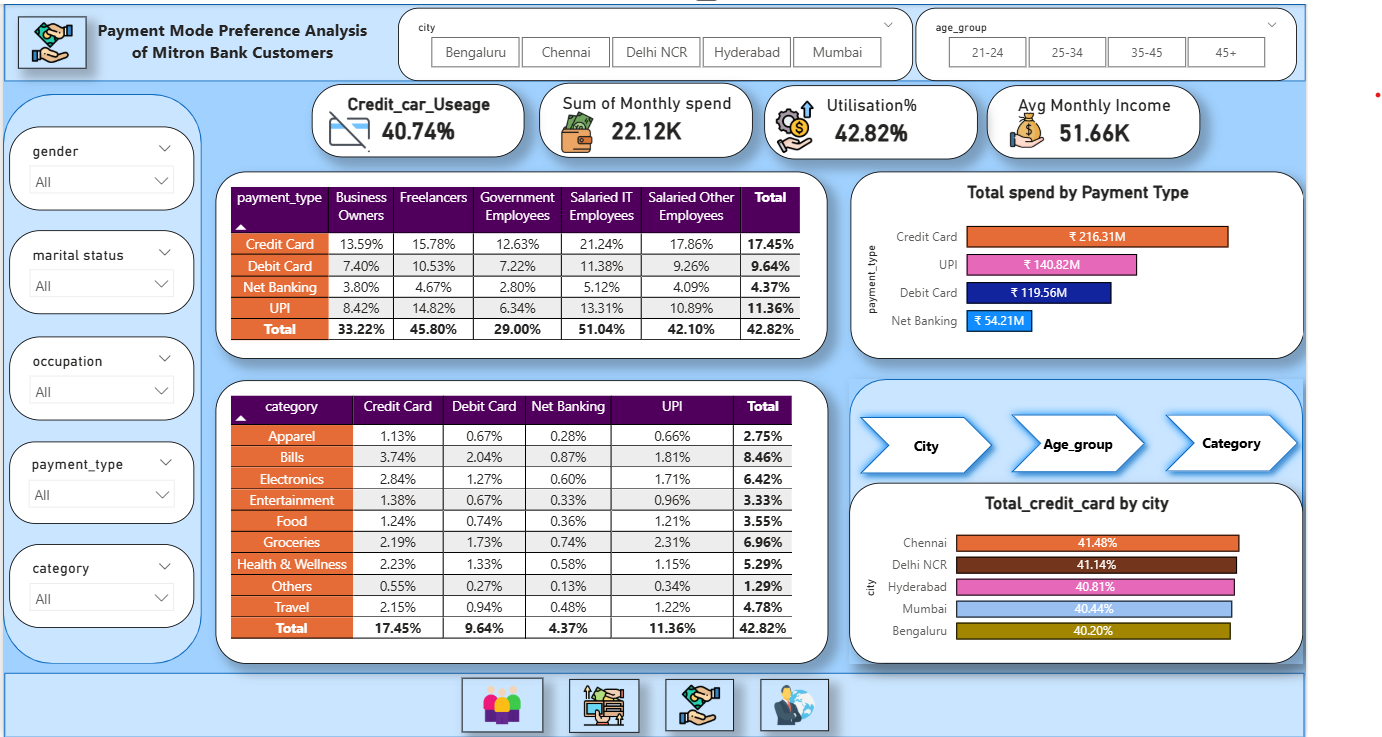

The dashboard page shown, as its layout file describes it:
{"tool":"powerbi","page":{"name":"Payment Mode","canvas":[1280,720],"ordinal":3},"visuals":[{"type":"shape","box":[1.2,0,1278.5,76.1],"z":0,"group":"g3"},{"type":"image","box":[14.7,12.3,67.5,51.5],"z":0,"group":"g4"},{"type":"card","title":"Credit_car_Useage","fields":{"Values":["fact_spends.sum_credit_card"]},"box":[303.3,78.2,209,72],"z":0,"group":"g9"},{"type":"shape","box":[0,88.3,195.1,559.5],"z":0,"group":"g2"},{"type":"group","id":"g1","title":"Group 9","box":[1.2,656.2,1277.3,63.8],"z":0},{"type":"shape","box":[1.2,656.2,1277.3,63.8],"z":0,"group":"g1"},{"type":"textbox","box":[82.2,8.6,285.9,63.8],"z":1000,"group":"g4"},{"type":"group","id":"g2","title":"Group 6","box":[0,88.3,195.1,559.5],"z":1000,"group":"g5"},{"type":"image","box":[312.9,100.2,54.9,49.4],"z":1000,"group":"g9"},{"type":"slicer","fields":{"Values":["dim_customers.gender"]},"box":[6.1,120.2,181.6,82.2],"z":1000,"group":"g2"},{"type":"shape","box":[830.7,368.1,445.4,279.8],"z":1000},{"type":"slicer","fields":{"Values":["dim_customers.marital status"]},"box":[6.1,222,181.6,82.2],"z":2000,"group":"g2"},{"type":"image","box":[450.3,661.6,79.8,54],"z":2000,"group":"g1"},{"type":"group","id":"g3","title":"Group 5","box":[1.2,0,1278.5,76.1],"z":3000},{"type":"slicer","fields":{"Values":["dim_customers.occupation"]},"box":[6.1,326.3,181.6,82.2],"z":3000,"group":"g2"},{"type":"image","box":[650.3,662.8,67.5,51.5],"z":3000,"group":"g1"},{"type":"group","id":"g4","title":"Group 1","box":[14.7,8.6,353.4,63.8],"z":4000},{"type":"slicer","fields":{"Values":["fact_spends.payment_type"]},"box":[6.1,429.4,181.6,81],"z":4000,"group":"g5"},{"type":"slicer","fields":{"Values":["fact_spends.category"]},"box":[6.1,530,181.6,82.2],"z":4000,"group":"g2"},{"type":"image","box":[743.5,662.8,67.5,51.5],"z":4000,"group":"g1"},{"type":"group","id":"g5","title":"Group 2","box":[0,88.3,195.1,559.5],"z":5000},{"type":"group","id":"g6","title":"Group 2","box":[525.9,77.6,210,74.1],"z":6000},{"type":"card","title":"Sum of Monthly spend","fields":{"Values":["dim_customers.sum_monthly_spend"]},"box":[525.9,77.6,209.8,73.6],"z":6000,"group":"g6"},{"type":"image","box":[555.8,662.2,68.7,52.8],"z":6000,"group":"g1"},{"type":"group","id":"g7","title":"Group 4","box":[963.5,79.3,212.7,72.7],"z":7000},{"type":"card","title":"Avg Monthly Income","fields":{"Values":["dim_customers.avg_monthly_income"]},"box":[966,79.3,209.8,72.4],"z":7000,"group":"g7"},{"type":"group","id":"g8","title":"Group 5","box":[746.3,76.9,211.4,87.8],"z":8000},{"type":"group","id":"g9","title":"Group 3","box":[303.3,78.2,208.6,71.4],"z":9000},{"type":"card","title":"Utilisation%","fields":{"Values":["fact_spends.utlisation%"]},"box":[747.8,79.8,210,72.7],"z":9000,"group":"g10"},{"type":"clusteredBarChart","title":"Total spend by Payment Type","fields":{"Category":["fact_spends.payment_type"],"Y":["Sum(fact_spends.spend)"]},"box":[832.4,164.4,445.4,184.1],"z":10000},{"type":"pivotTable","fields":{"Rows":["fact_spends.payment_type"],"Columns":["dim_customers.occupation"],"Values":["fact_spends.utlisation%"]},"box":[208.6,164.7,601.2,183.9],"z":11000},{"type":"group","id":"g10","title":"Group 7","box":[746.3,76.9,211.5,87.1],"z":11001,"group":"g8"},{"type":"pivotTable","fields":{"Rows":["fact_spends.category"],"Columns":["fact_spends.payment_type"],"Values":["fact_spends.utlisation%"]},"box":[208.6,369.3,601.2,278.5],"z":12000},{"type":"clusteredBarChart","fields":{"Category":["dim_customers.city"],"Y":["fact_spends.Total_credit_card"]},"box":[830.7,469.9,445.4,177.9],"z":13000},{"type":"slicer","fields":{"Values":["dim_customers.city"]},"box":[387.7,3.7,505.5,72.4],"z":14000,"group":"g3"},{"type":"shape","box":[1131,393.9,149,74],"z":14000},{"type":"image","box":[535.7,100.5,55.2,50.7],"z":14003,"group":"g6"},{"type":"image","box":[963.5,100.9,84.7,44.2],"z":14007,"group":"g7"},{"type":"image","box":[746.3,76.9,62.6,87.1],"z":14009,"group":"g10"},{"type":"slicer","fields":{"Values":["dim_customers.age_group"]},"box":[895.7,3.7,374.2,72.4],"z":15000,"group":"g3"},{"type":"shape","box":[980.8,393.9,149.7,74.8],"z":15000},{"type":"shape","box":[831.9,396.3,148.5,73.6],"z":16000}]}

Visuals, with their boxes on the page's 1280x720 design canvas (x1, y1, x2, y2). These are canvas units, not pixel positions in the 1382x737 screenshot, which may show the page scaled, cropped or inside an application window:
shape: locate(1, 0, 1280, 76)
image: locate(15, 12, 82, 64)
"Credit_car_Useage" card: locate(303, 78, 512, 150)
shape: locate(0, 88, 195, 648)
"Group 9" group: locate(1, 656, 1278, 720)
shape: locate(1, 656, 1278, 720)
textbox: locate(82, 9, 368, 72)
"Group 6" group: locate(0, 88, 195, 648)
image: locate(313, 100, 368, 150)
slicer - dim_customers.gender: locate(6, 120, 188, 202)
shape: locate(831, 368, 1276, 648)
slicer - dim_customers.marital status: locate(6, 222, 188, 304)
image: locate(450, 662, 530, 716)
"Group 5" group: locate(1, 0, 1280, 76)
slicer - dim_customers.occupation: locate(6, 326, 188, 408)
image: locate(650, 663, 718, 714)
"Group 1" group: locate(15, 9, 368, 72)
slicer - fact_spends.payment_type: locate(6, 429, 188, 510)
slicer - fact_spends.category: locate(6, 530, 188, 612)
image: locate(744, 663, 811, 714)
"Group 2" group: locate(0, 88, 195, 648)
"Group 2" group: locate(526, 78, 736, 152)
"Sum of Monthly spend" card: locate(526, 78, 736, 151)
image: locate(556, 662, 624, 715)
"Group 4" group: locate(964, 79, 1176, 152)
"Avg Monthly Income" card: locate(966, 79, 1176, 152)
"Group 5" group: locate(746, 77, 958, 165)
"Group 3" group: locate(303, 78, 512, 150)
"Utilisation%" card: locate(748, 80, 958, 152)
"Total spend by Payment Type" clusteredBarChart: locate(832, 164, 1278, 348)
pivotTable - fact_spends.payment_type x dim_customers.occupation: locate(209, 165, 810, 349)
"Group 7" group: locate(746, 77, 958, 164)
pivotTable - fact_spends.category x fact_spends.payment_type: locate(209, 369, 810, 648)
clusteredBarChart - dim_customers.city x fact_spends.Total_credit_card: locate(831, 470, 1276, 648)
slicer - dim_customers.city: locate(388, 4, 893, 76)
shape: locate(1131, 394, 1280, 468)
image: locate(536, 100, 591, 151)
image: locate(964, 101, 1048, 145)
image: locate(746, 77, 809, 164)
slicer - dim_customers.age_group: locate(896, 4, 1270, 76)
shape: locate(981, 394, 1130, 469)
shape: locate(832, 396, 980, 470)
